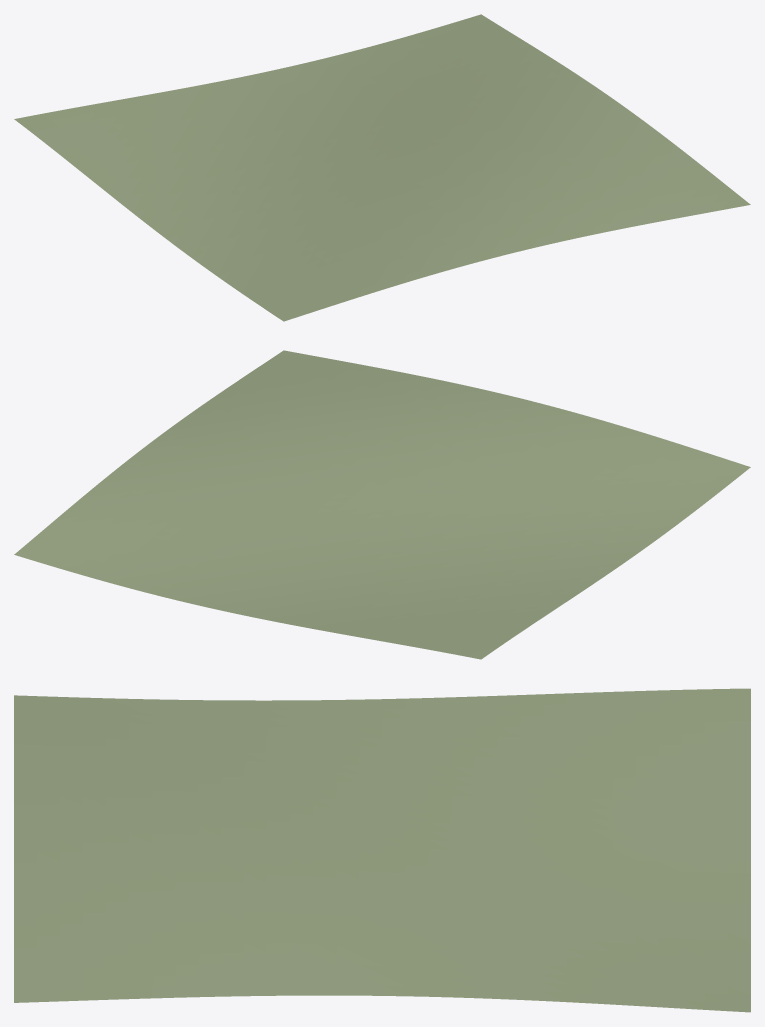
File: coast-0-2.glb
3 renders of one model, top to bottom at view 1: azimuth 30°, elevation 25°; view 2: azimuth 150°, elevation 25°; view 3: azimuth 270°, elevation 25°, orthographic. The views are drawn at different scales.
Parts seen in each view (by area): view 1: coast-0-2; view 2: coast-0-2; view 3: coast-0-2.
Boxes of the visible parts, <box> form: coast-0-2: <box>14,14,750,321</box>; coast-0-2: <box>14,350,750,659</box>; coast-0-2: <box>14,688,750,1012</box>.
Bounding box in the file's own units: 128 × 6.2 × 128.
